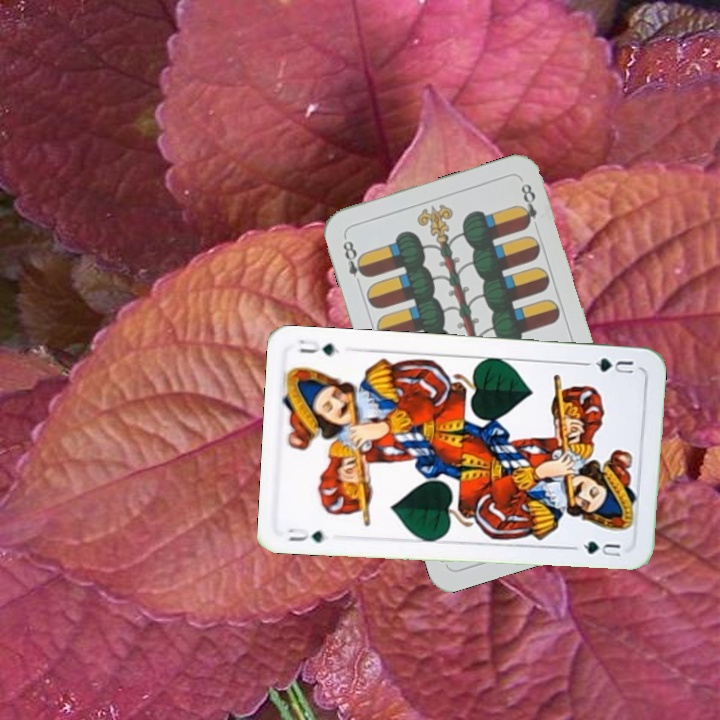E8: (339, 232, 371, 290)
GU: (581, 354, 638, 377), (283, 524, 327, 545)
